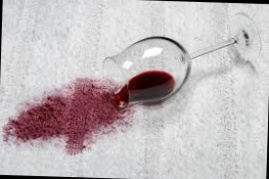wine: (12, 76, 132, 157)
